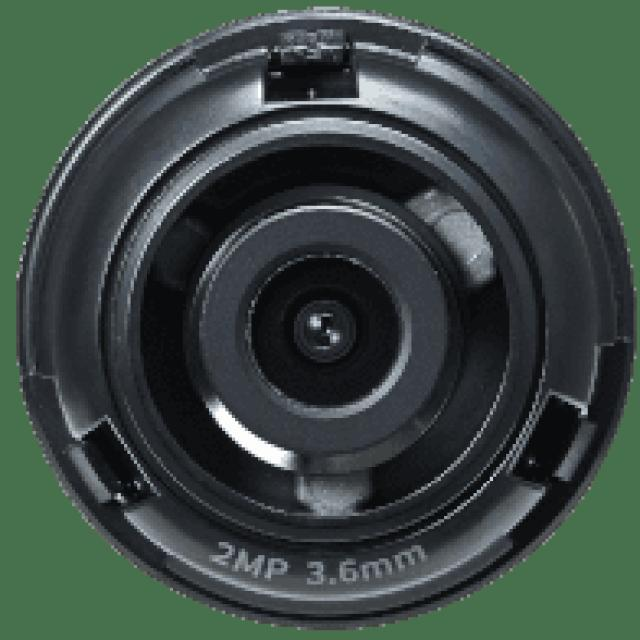hidden camera: (92, 92, 563, 567)
